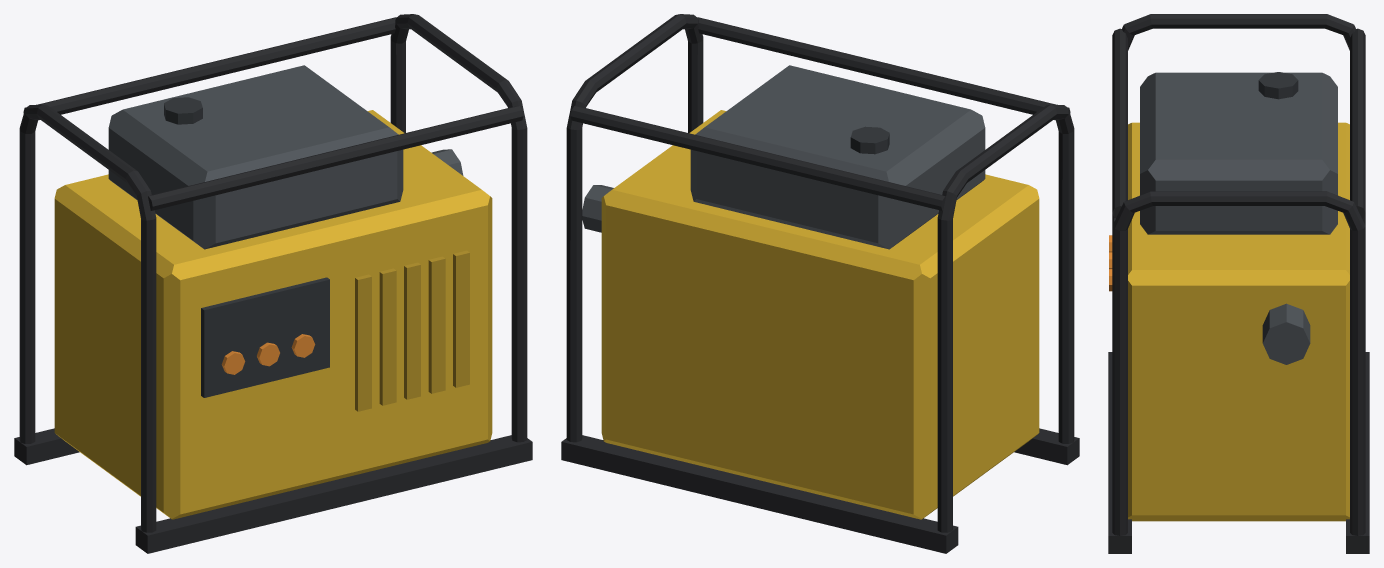
Rendered from groupe_electrogene.glb.
3 views of the same model, side by side, from view 1: azimuth 30°, elevation 25°; view 2: azimuth 150°, elevation 25°; view 3: azimuth 270°, elevation 25° (orthographic).
Visible parts, largest first — view 1: housing, tank, frame_l, skids, top_rails, vents, panel, frame_r, sockets, fuel_cap; view 2: housing, tank, frame_l, skids, top_rails, frame_r, fuel_cap, exhaust; view 3: housing, tank, frame_r, top_rails, frame_l, skids, exhaust, fuel_cap.
Boxes of the visible parts, <box> form: housing: <box>54,110,492,519</box>; tank: <box>108,65,403,249</box>; frame_l: <box>19,104,156,532</box>; skids: <box>14,428,532,553</box>; top_rails: <box>23,17,523,210</box>; vents: <box>355,250,469,411</box>; panel: <box>201,277,329,397</box>; frame_r: <box>390,14,527,442</box>; sockets: <box>221,334,315,374</box>; fuel_cap: <box>164,97,202,124</box>; housing: <box>601,110,1039,519</box>; tank: <box>690,65,985,249</box>; frame_l: <box>937,104,1074,532</box>; skids: <box>561,428,1079,553</box>; top_rails: <box>570,17,1070,210</box>; frame_r: <box>566,14,703,442</box>; fuel_cap: <box>850,126,889,154</box>; exhaust: <box>582,185,613,232</box>; housing: <box>1128,122,1349,521</box>; tank: <box>1140,72,1337,234</box>; frame_r: <box>1112,191,1365,535</box>; top_rails: <box>1112,28,1365,218</box>; frame_l: <box>1112,14,1365,225</box>; skids: <box>1108,352,1369,553</box>; exhaust: <box>1262,303,1310,364</box>; fuel_cap: <box>1258,72,1298,99</box>.
Bounding box in the file's own units: 1.13 × 0.9996 × 0.66.
6 materials, 6 textured.
